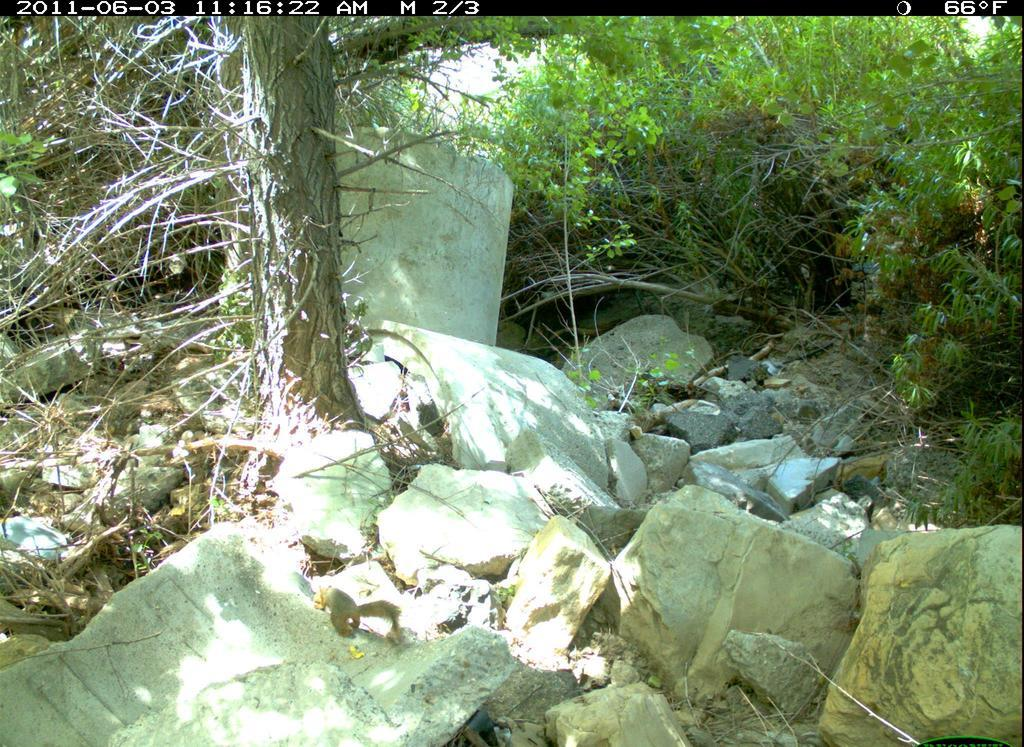squirrel: (314, 573, 399, 652)
